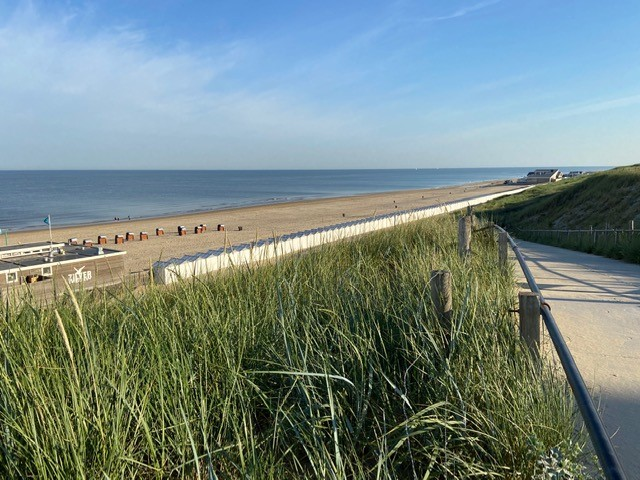pad: (487, 222, 638, 480)
